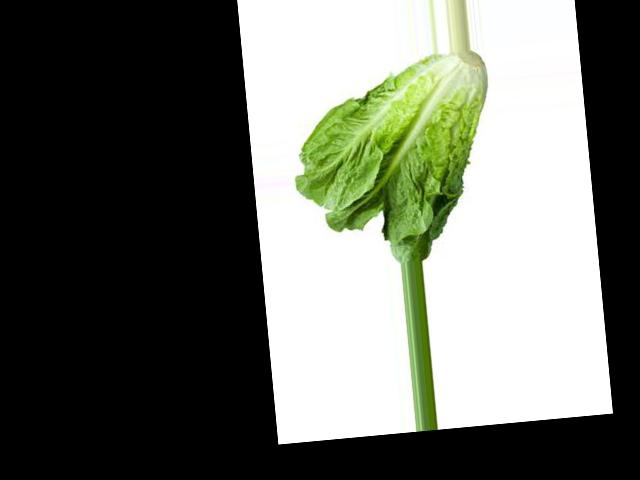lettuce: (356, 54, 458, 170)
